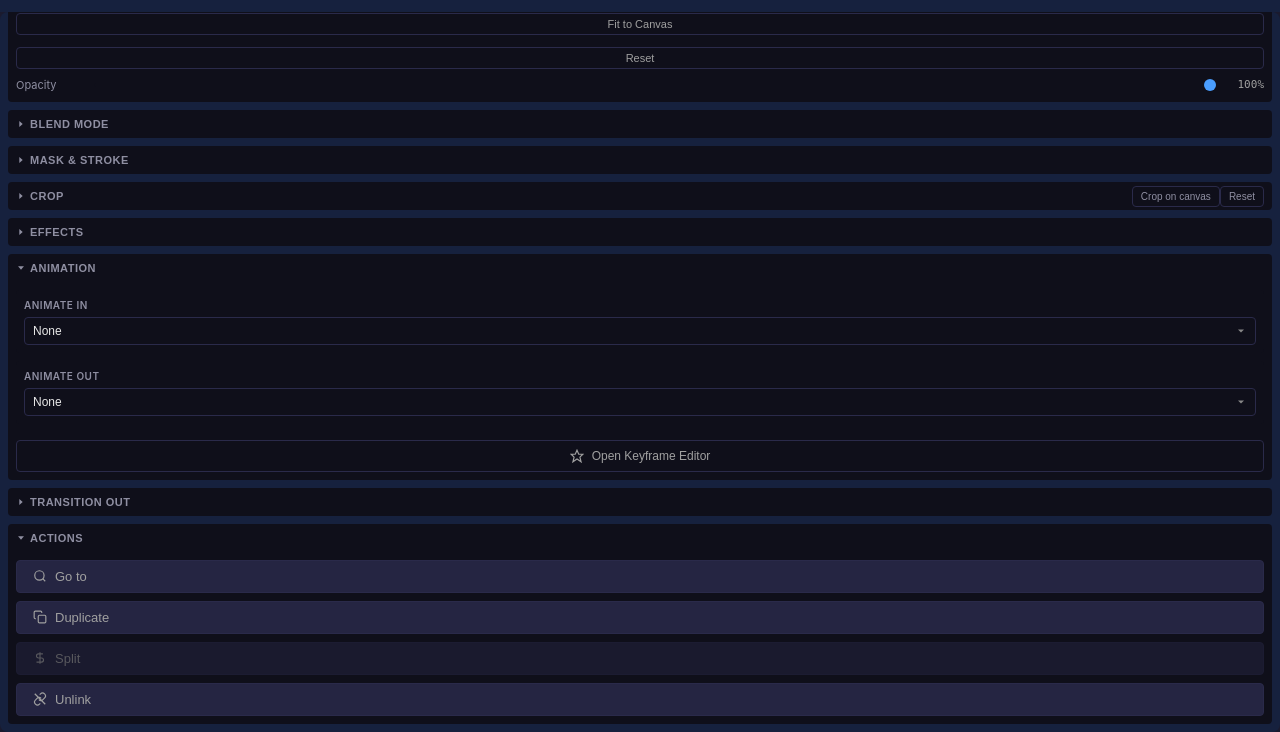
Scenario: ClipEditor Unlink › unlinks a linked clip, and then is gone
(page scrolled)
Click the button "Unlink".
click(73, 699)  # box left=16, top=682, right=1264, bottom=716
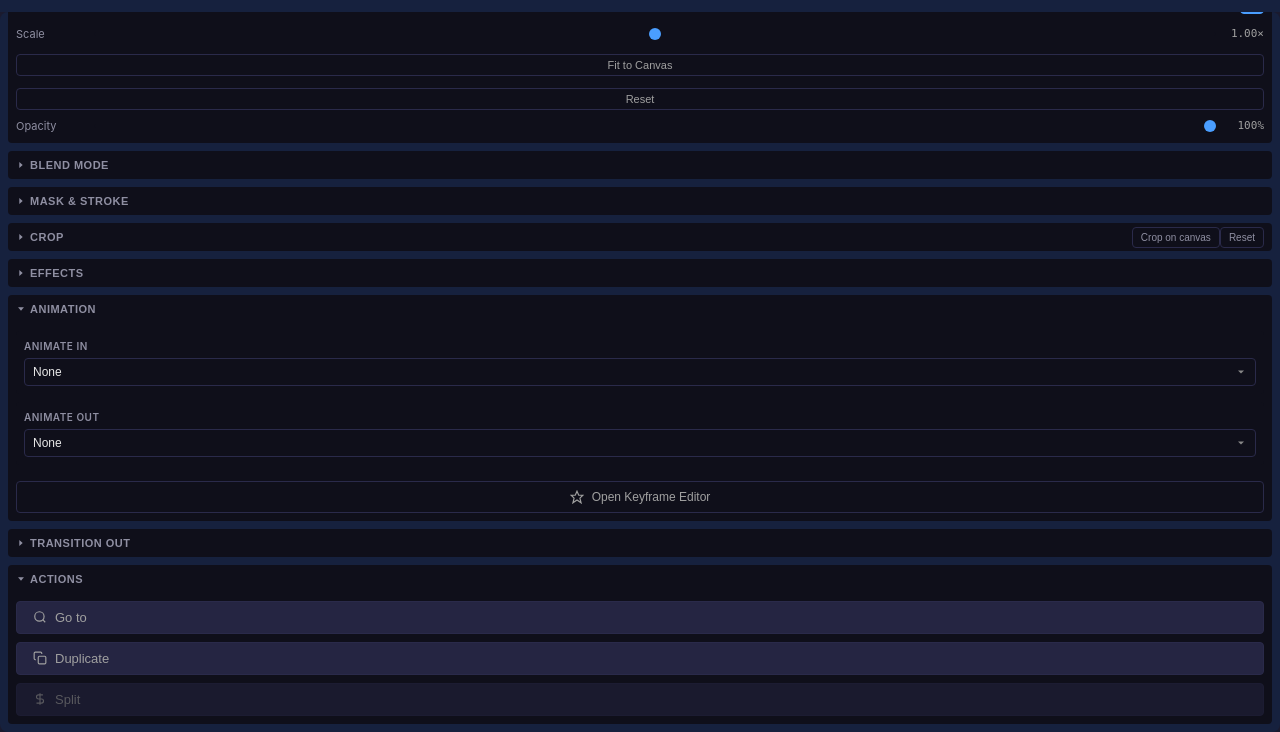
Expected: the button "Unlink" is gone
